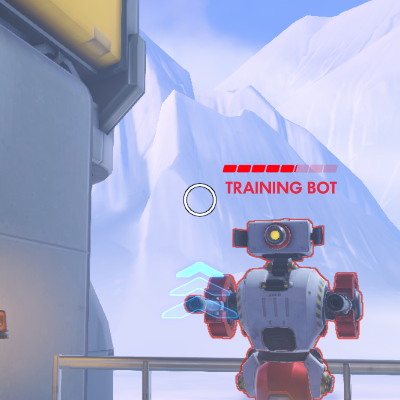hpbar: (222, 165, 338, 173)
